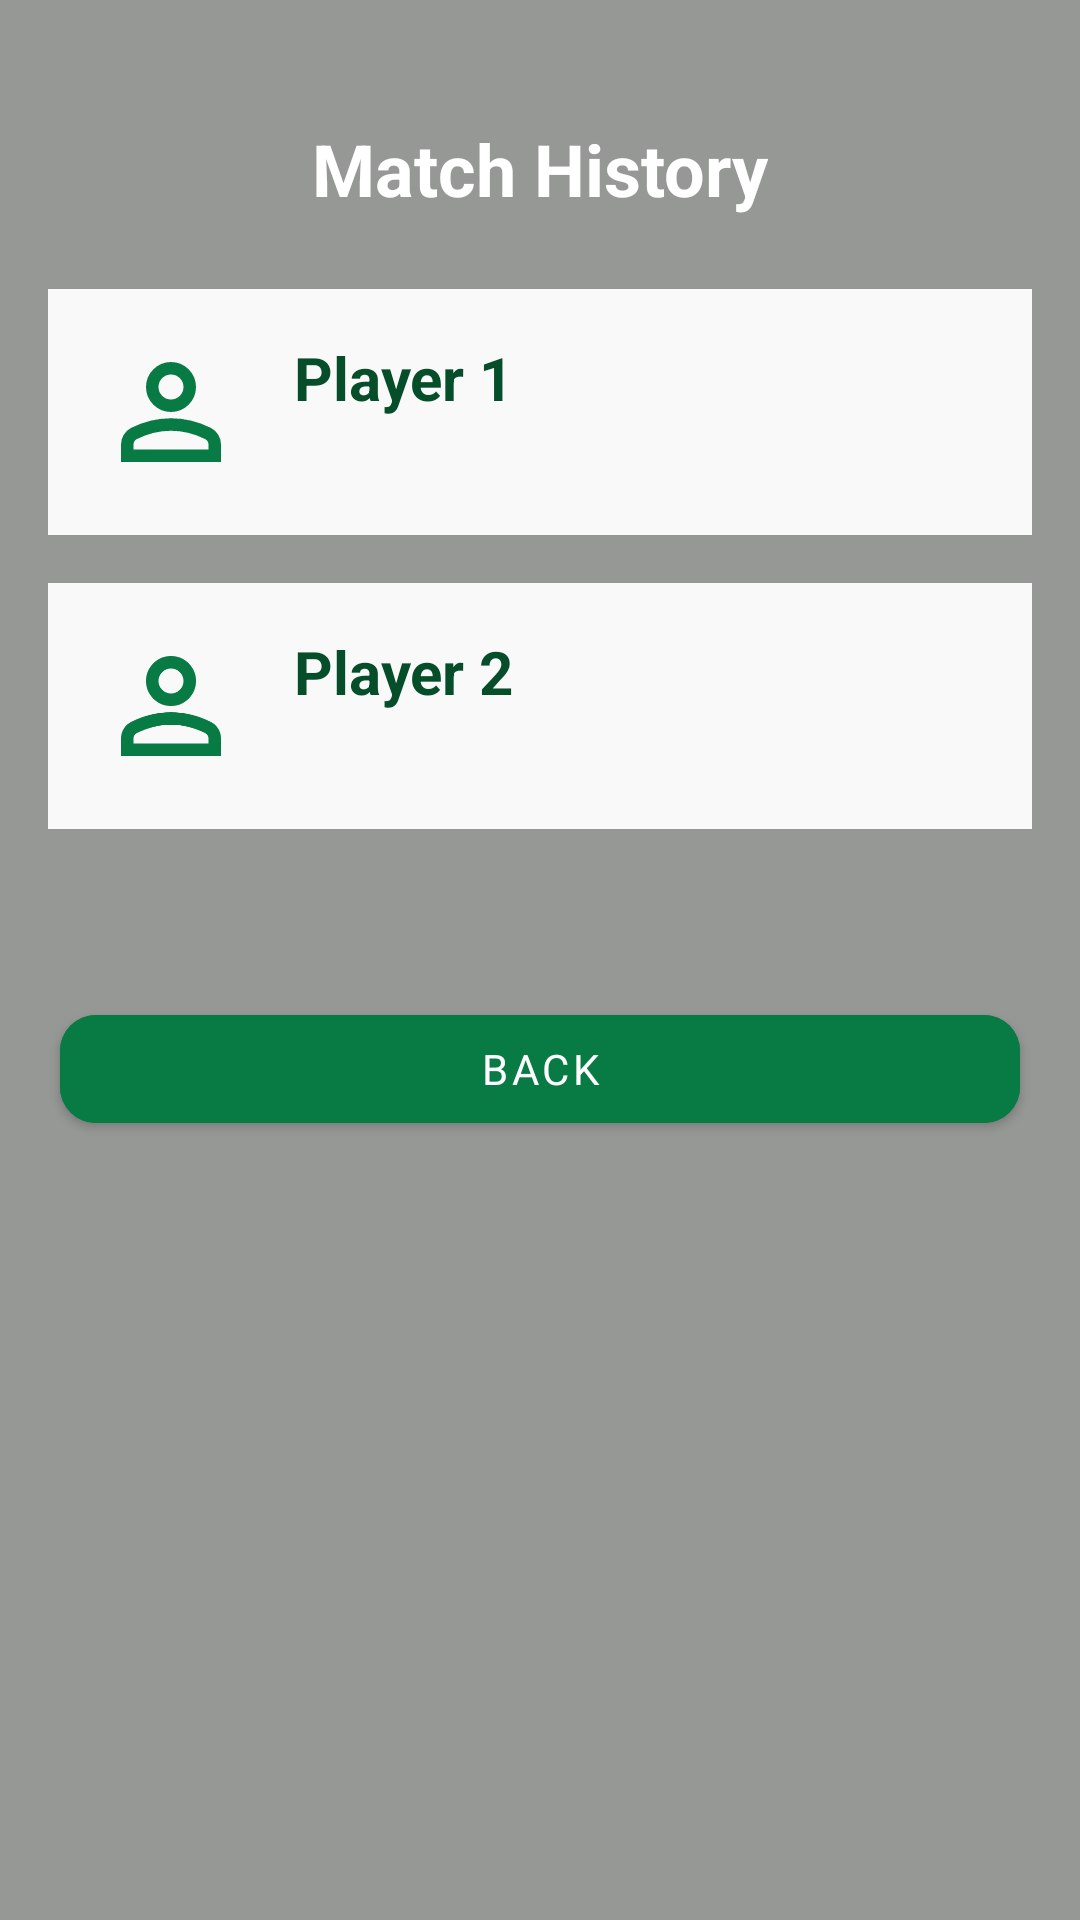

Screen size 1080 x 1920. Icon name, then its center in pixels as (x=x, y=y):
Icon of the second player: (x=171, y=706)
